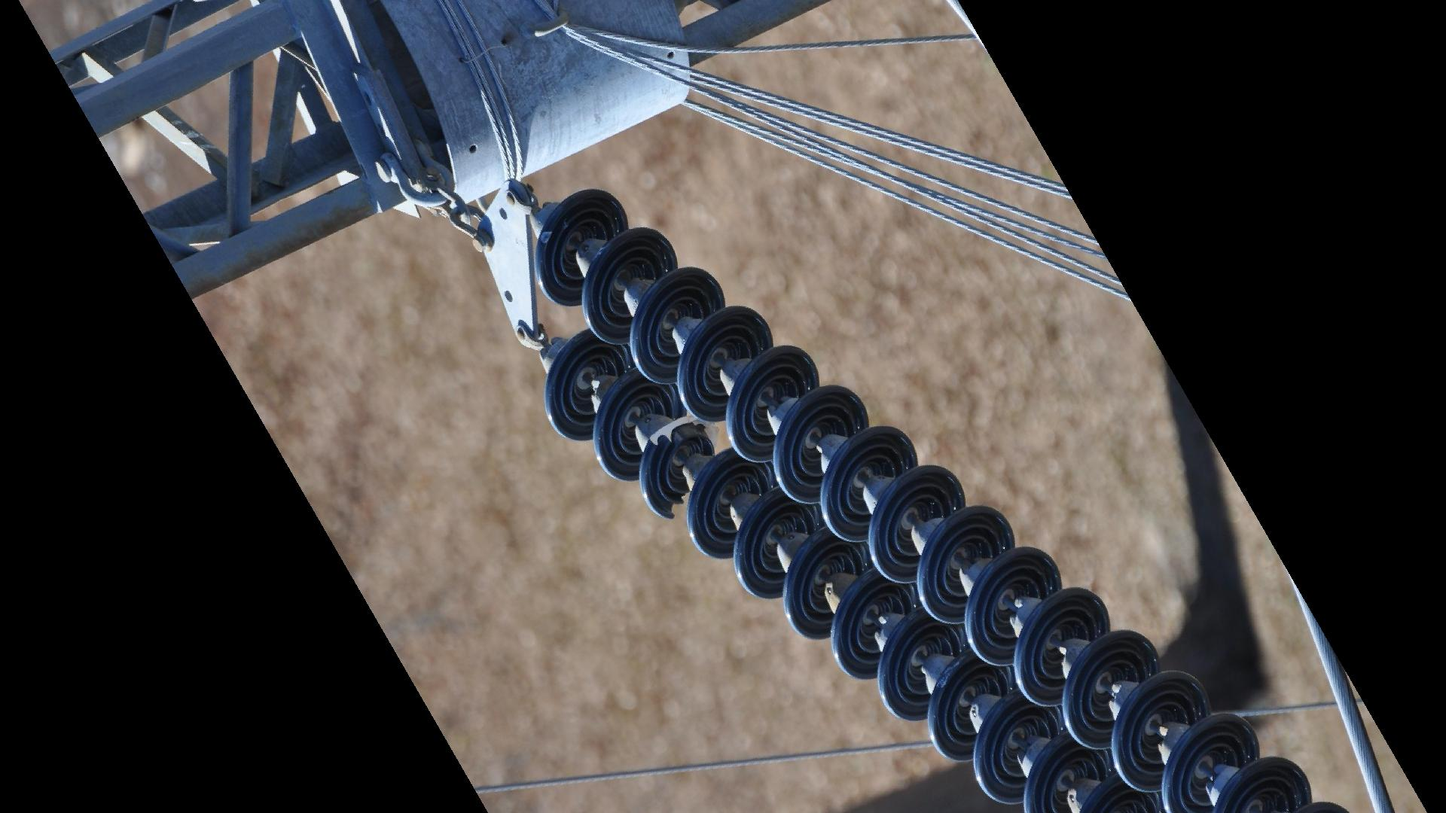insulator: (529, 184, 1347, 813), (537, 327, 1069, 812)
insulator_breakage: (640, 410, 724, 455), (655, 481, 694, 522)
